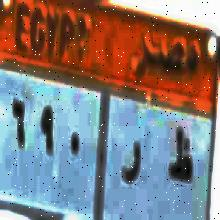0: (68, 120, 81, 164)
6: (10, 96, 26, 155)
9: (38, 106, 56, 166)
Thaa: (168, 122, 194, 192)
raa: (120, 135, 144, 190)
